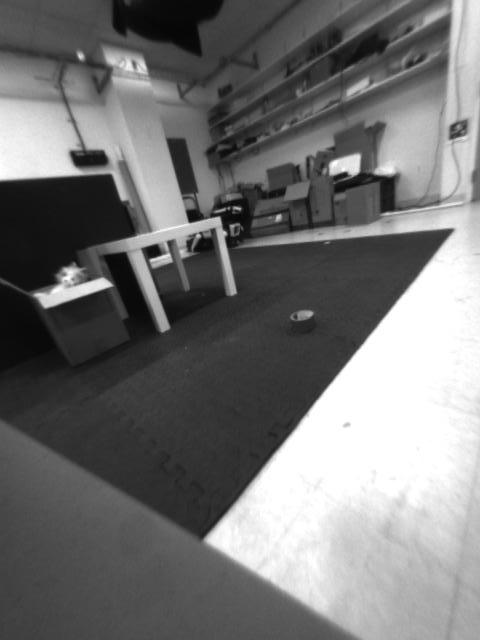dogtoy: (280, 304, 327, 331)
